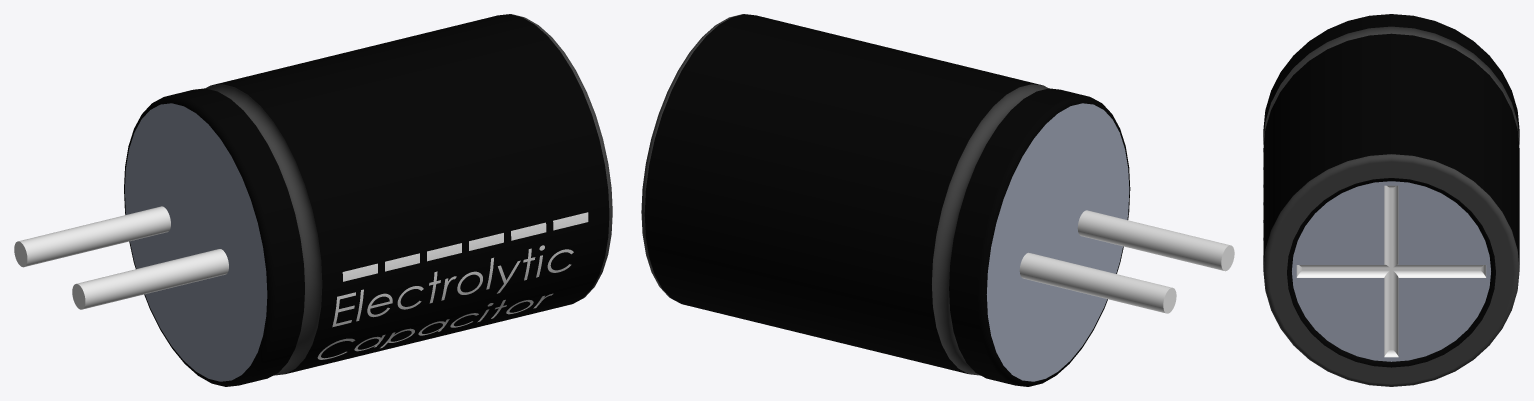
File: Capacitor.fbx
The picture shows the model from 3 angles, left to right: view 1: azimuth 30°, elevation 25°; view 2: azimuth 150°, elevation 25°; view 3: azimuth 270°, elevation 25°; orthographic projection. The views are drawn at different scales.
Parts seen in each view (by area): view 1: Electrolytic Capacitor; view 2: Electrolytic Capacitor; view 3: Electrolytic Capacitor.
Part boxes in pixels (bbox=[...]): Electrolytic Capacitor: bbox=[14, 14, 612, 386]; Electrolytic Capacitor: bbox=[641, 14, 1234, 386]; Electrolytic Capacitor: bbox=[1263, 14, 1519, 386].
Size of the model in its own units: 1.7 by 0.9 by 0.9.
